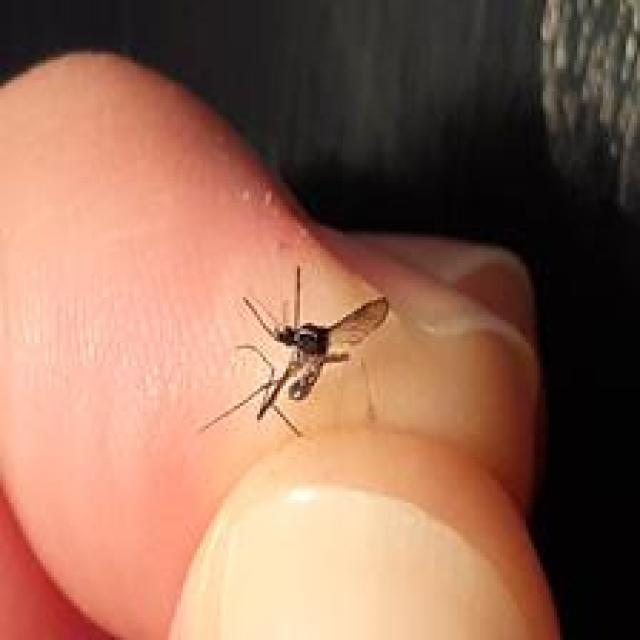Aedes albopictus: (200, 264, 391, 439)
